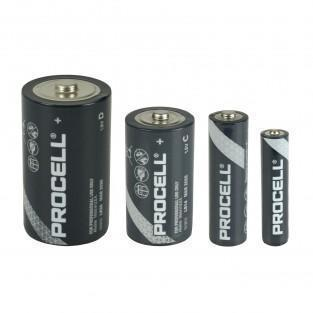AA: (206, 108, 250, 249)
AAA: (259, 127, 291, 249)
